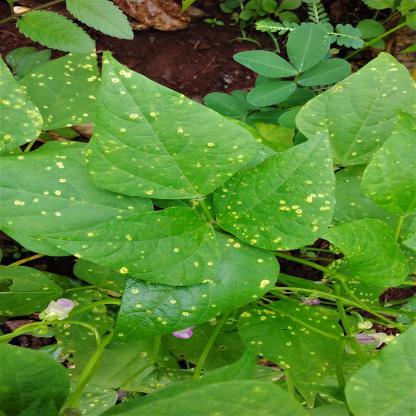Beans_Rust: (91, 52, 255, 199), (113, 222, 278, 341), (214, 128, 344, 248), (43, 203, 223, 282), (3, 142, 128, 255), (298, 51, 413, 162), (237, 298, 349, 408), (19, 48, 108, 140), (361, 132, 416, 216), (0, 50, 40, 151), (0, 266, 65, 318)
